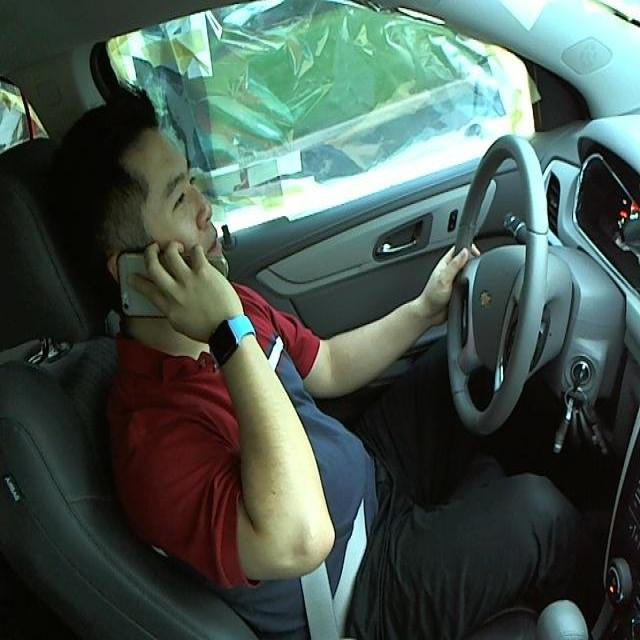using_phone: (90, 154, 260, 388)
